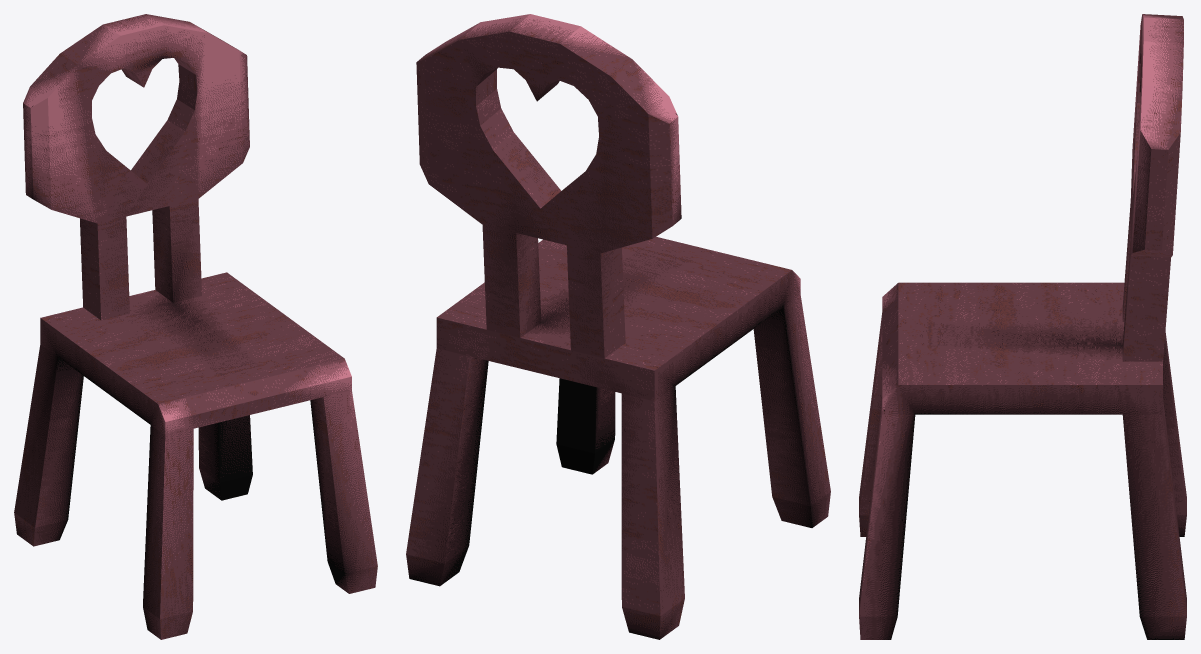
The model's file is LD56_Chair.fbx.
3 renders of one model, left to right at view 1: azimuth 30°, elevation 25°; view 2: azimuth 150°, elevation 25°; view 3: azimuth 270°, elevation 25°, orthographic. The views are drawn at different scales.
Visible parts, largest first — view 1: chair; view 2: chair; view 3: chair.
Boxes of the visible parts, box(x1,y1,x2,y2) form: chair: box(14, 14, 377, 639); chair: box(406, 14, 830, 639); chair: box(859, 14, 1186, 639).
Bounding box in the file's own units: 201 × 434 × 233.
